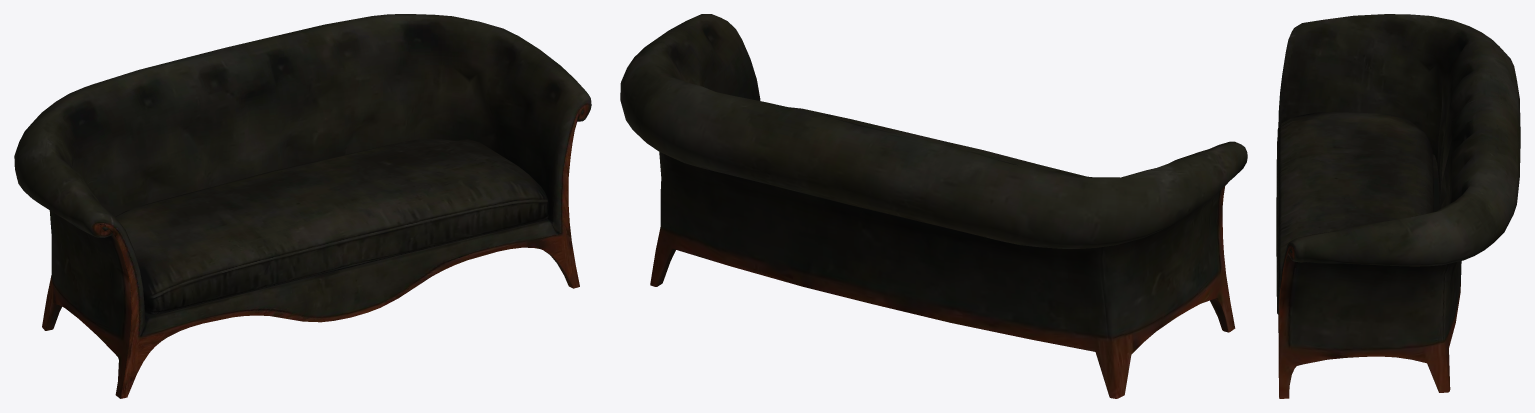
File: sofa_02.glb
The picture shows the model from 3 angles, left to right: view 1: azimuth 30°, elevation 25°; view 2: azimuth 150°, elevation 25°; view 3: azimuth 270°, elevation 25°; orthographic projection. The views are drawn at different scales.
Visible parts, largest first — view 1: sofa_02_Base; view 2: sofa_02_Base; view 3: sofa_02_Base.
Boxes of the visible parts, left/top/right/bottom form: sofa_02_Base: left=14, top=14, right=591, bottom=398; sofa_02_Base: left=620, top=14, right=1247, bottom=398; sofa_02_Base: left=1276, top=14, right=1520, bottom=398.
Size of the model in its own units: 1.81 by 0.7095 by 0.8176.
1 material, 1 textured.
